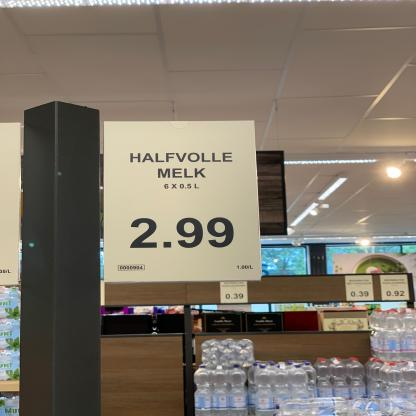prtg: (100, 122, 265, 284), (345, 276, 376, 303), (380, 275, 410, 302), (221, 282, 250, 305)
